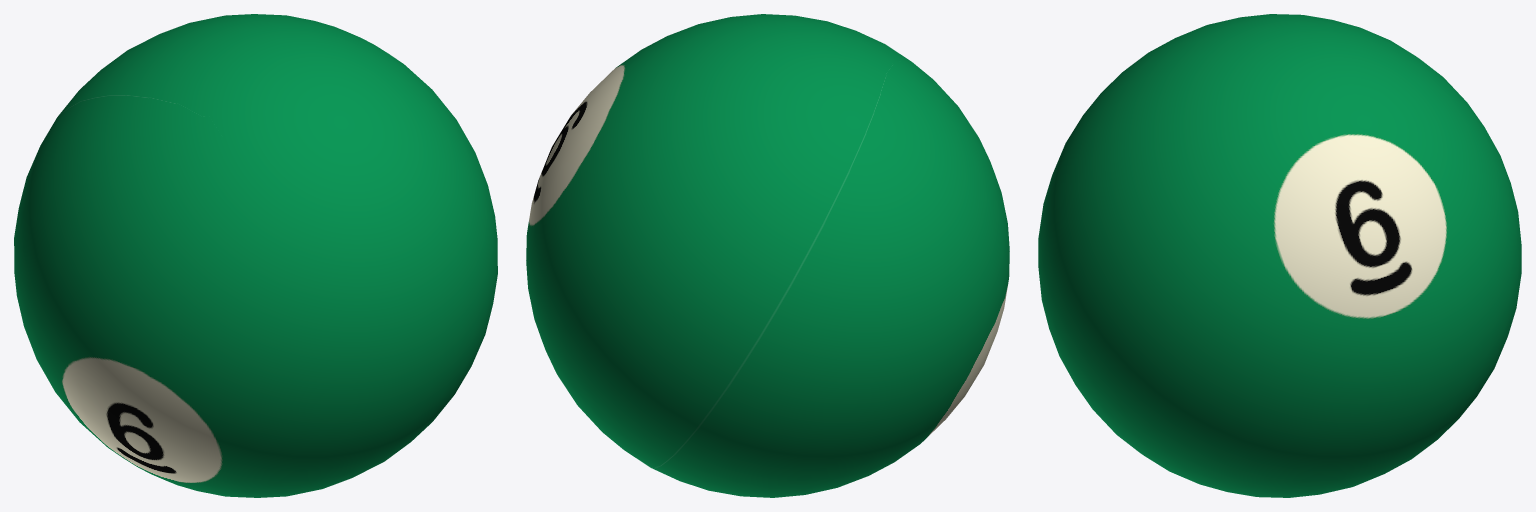
The model's file is bola11.obj.
The picture shows the model from 3 angles, left to right: view 1: azimuth 30°, elevation 25°; view 2: azimuth 150°, elevation 25°; view 3: azimuth 270°, elevation 25°; orthographic projection.
Parts seen in each view (by area): view 1: 6_Ball; view 2: 6_Ball; view 3: 6_Ball.
Boxes of the visible parts, left/top/right/bottom form: 6_Ball: left=14, top=14, right=497, bottom=497; 6_Ball: left=526, top=14, right=1009, bottom=497; 6_Ball: left=1038, top=14, right=1521, bottom=497.
Size of the model in its own units: 0.0509 by 0.0508 by 0.0508.
Materials: 1 (1 with a texture image).
